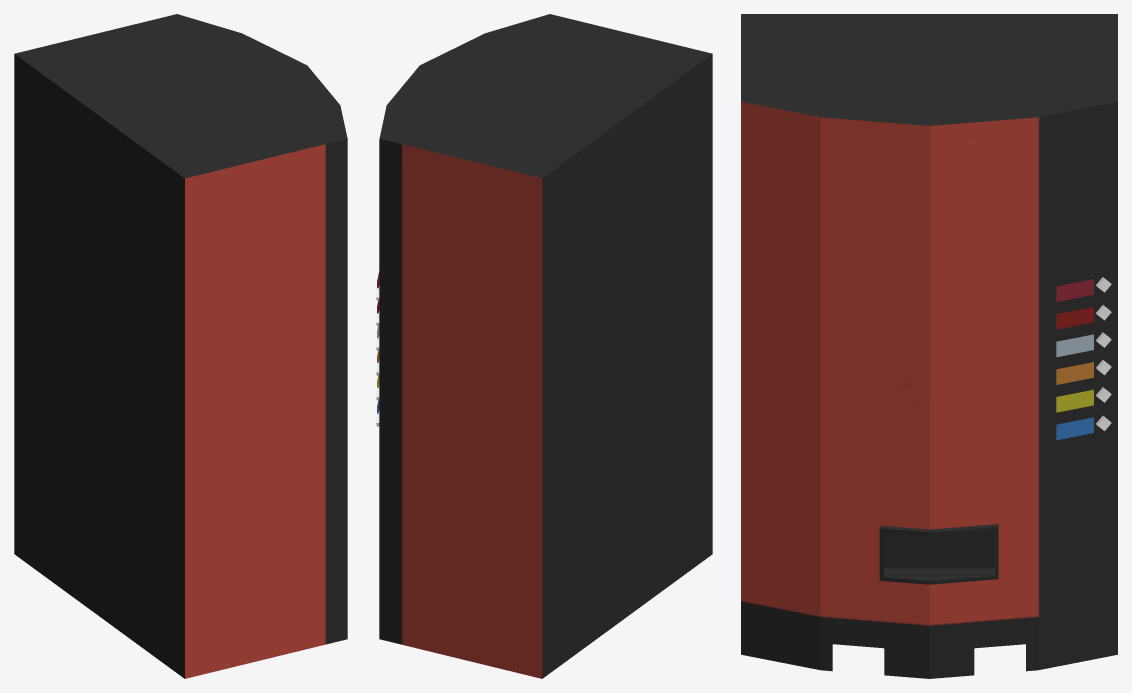
Rendered from ColaMachine.fbx.
The picture shows the model from 3 angles, left to right: view 1: azimuth 30°, elevation 25°; view 2: azimuth 150°, elevation 25°; view 3: azimuth 270°, elevation 25°; orthographic projection. The views are drawn at different scales.
Parts seen in each view (by area): view 1: coke_machine; view 2: coke_machine; view 3: coke_machine.
Boxes of the visible parts, x1,y1,x2,y2 form: coke_machine: (14,14,347,678); coke_machine: (376,14,712,678); coke_machine: (741,14,1117,678).
Bounding box in the file's own units: 89.1 × 200 × 123.
Materials: 1 (1 with a texture image).
